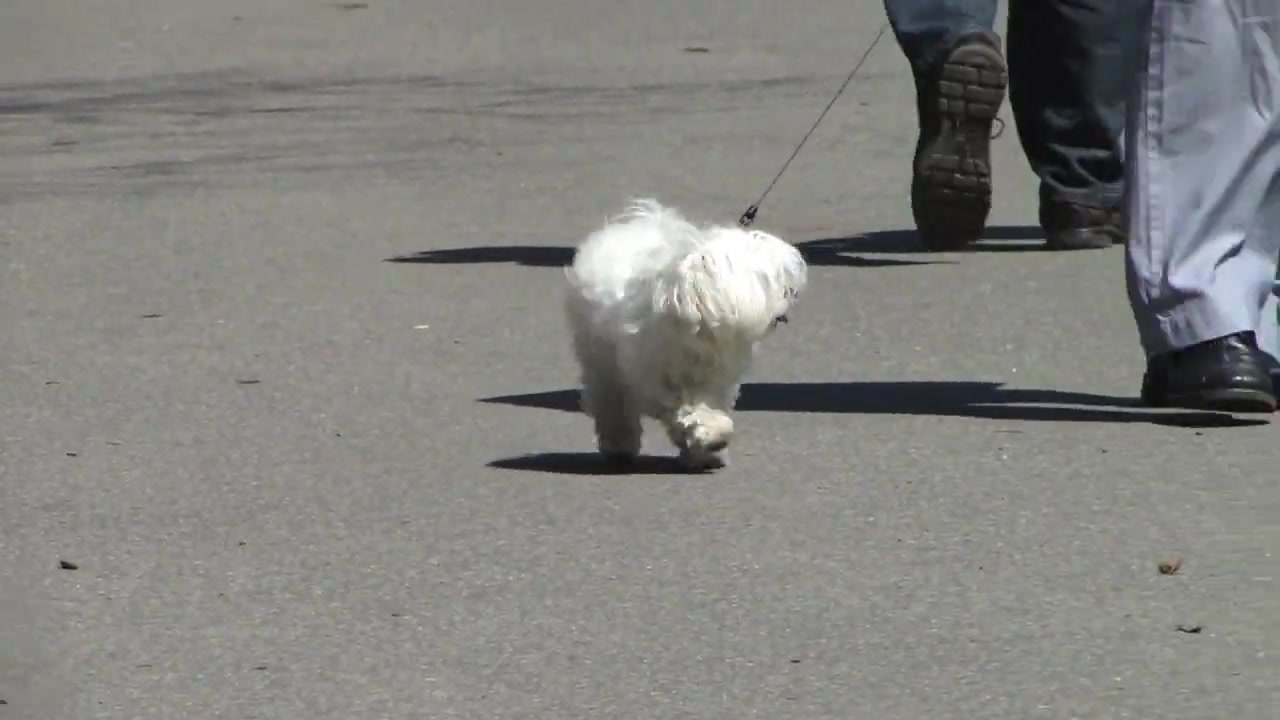dog: (566, 197, 808, 475)
